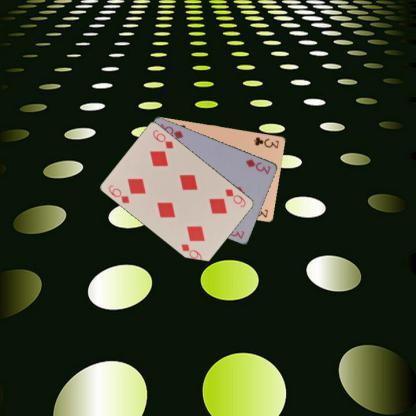3c: (251, 134, 280, 149)
3d: (243, 156, 272, 175)
6d: (223, 186, 247, 209), (106, 182, 131, 204)
